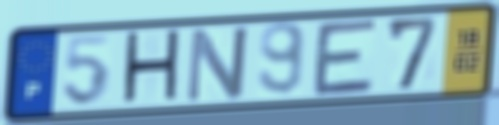5: (60, 34, 114, 109)
7: (384, 15, 442, 93)
9: (257, 20, 308, 102)
E: (310, 16, 381, 99)
H: (119, 26, 184, 109)
N: (182, 23, 253, 106)
